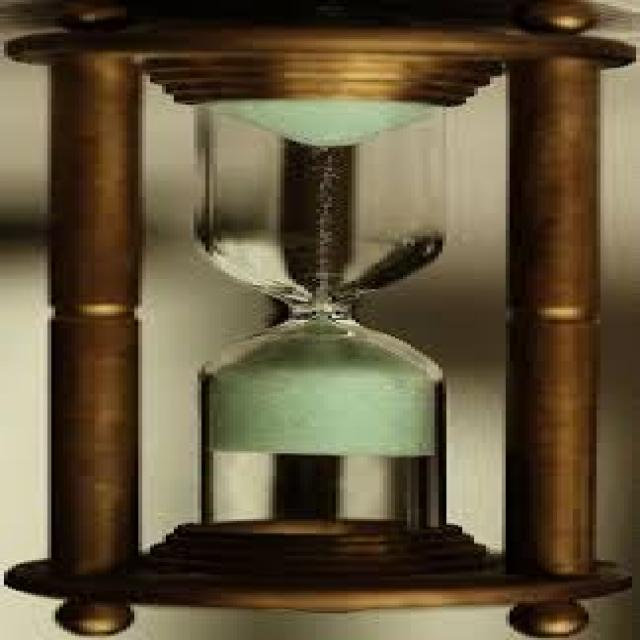clock: (12, 0, 640, 634)
